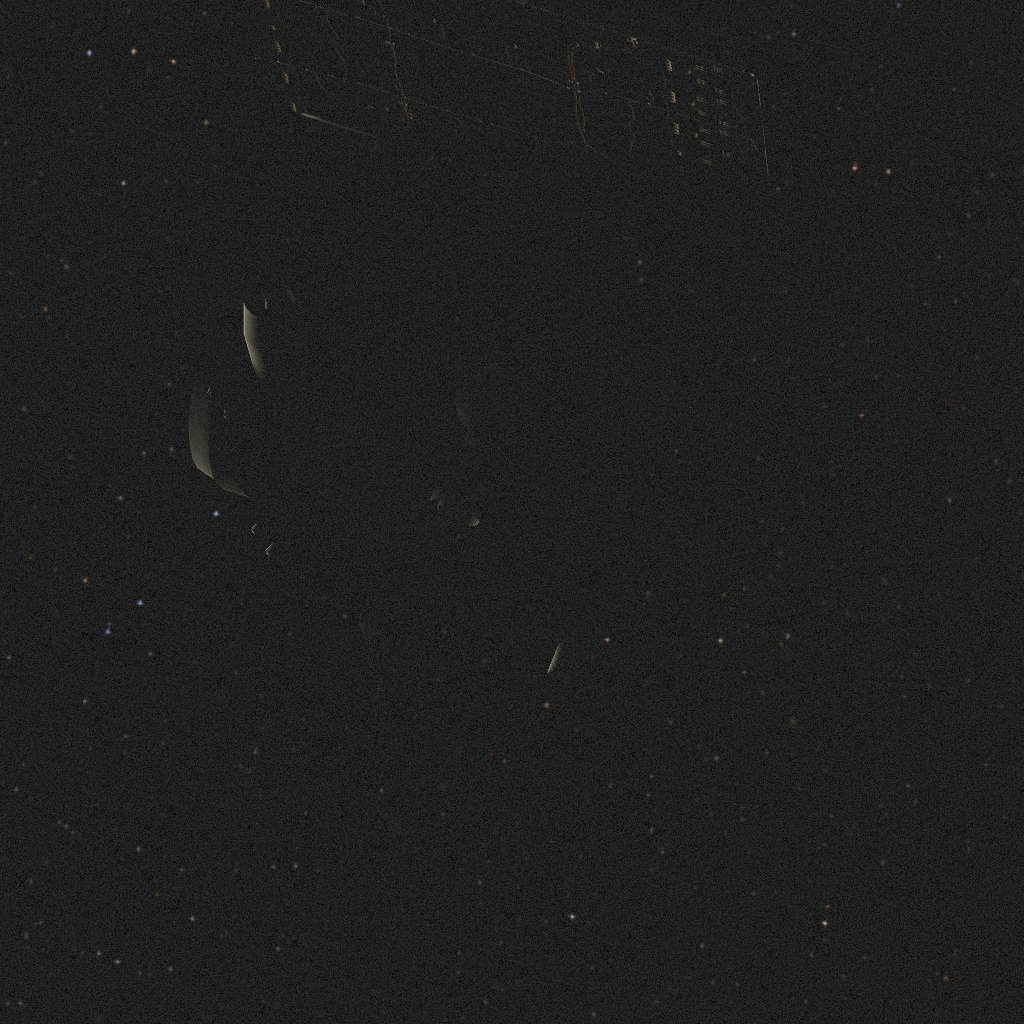proba_3_csc: (186, 0, 780, 682)
